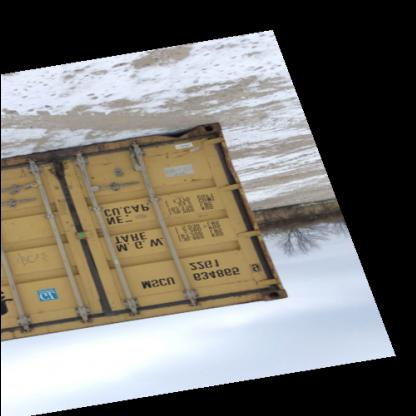Damage: (183, 286, 286, 310), (34, 143, 73, 198), (164, 123, 224, 151), (76, 147, 132, 168)
